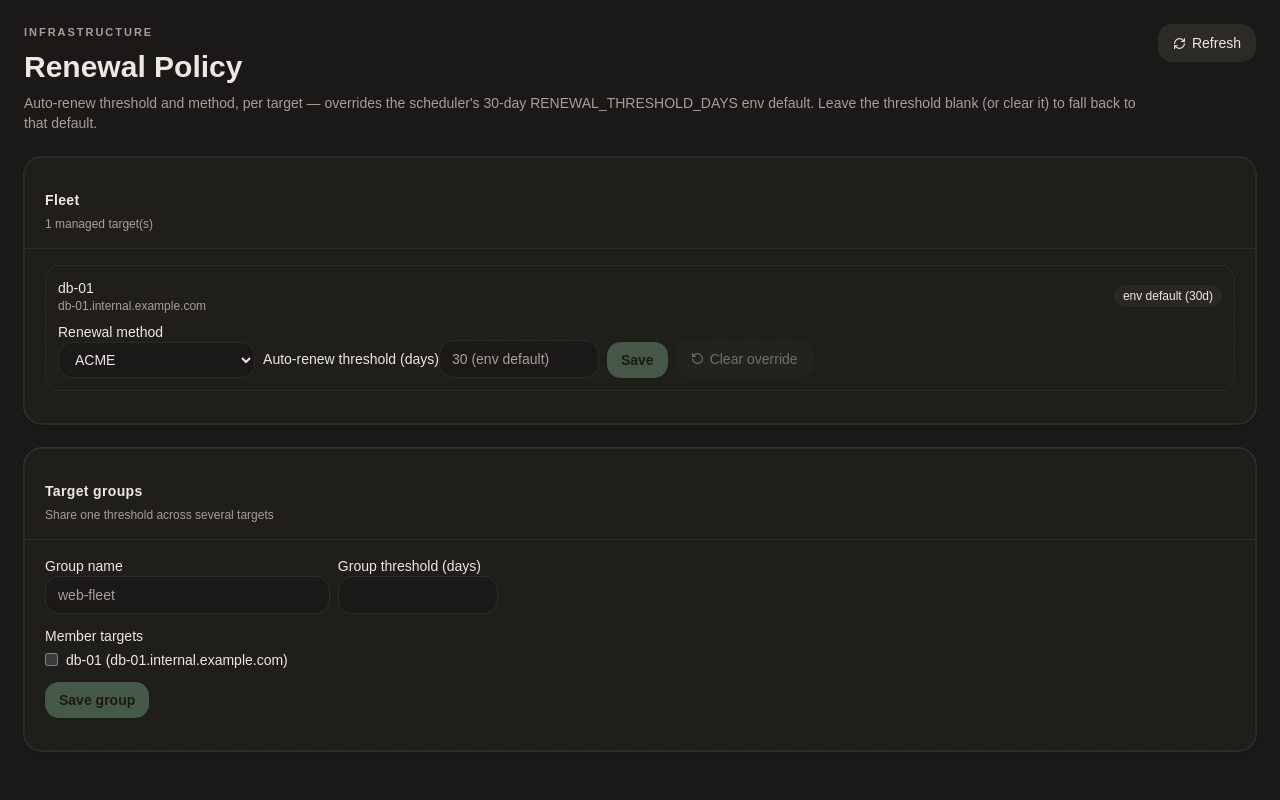
RenewalPolicy page (acceptance #1 — set threshold + method per target) › disables Save until a field actually changes
Expected: the text "db-01" is shown, [58,280,94,296]
Expected: the button "Save" is disabled, [607,342,668,378]
Type "7" into the number field named "db-01 auto-renew threshold days" at [519, 358], box [439,340,599,378]
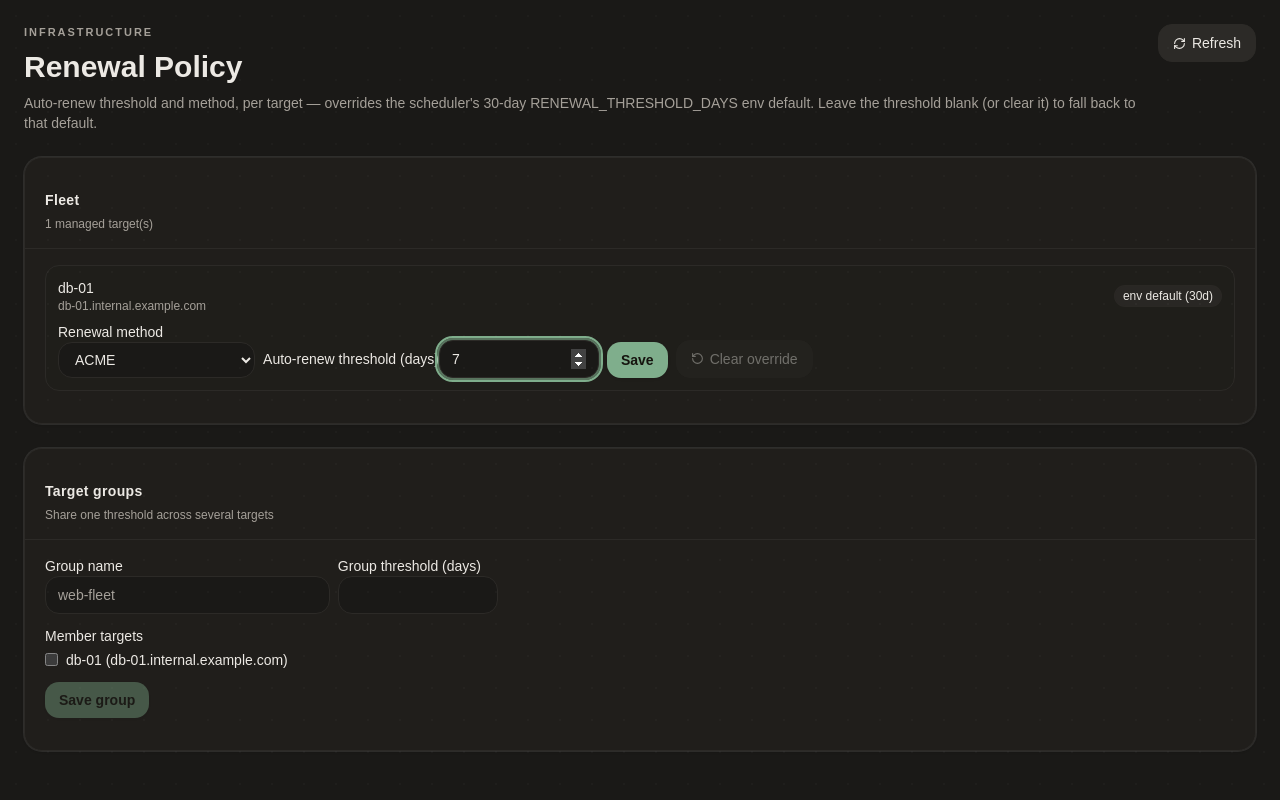
Now the button "Save" is enabled, box [607,342,668,378]
